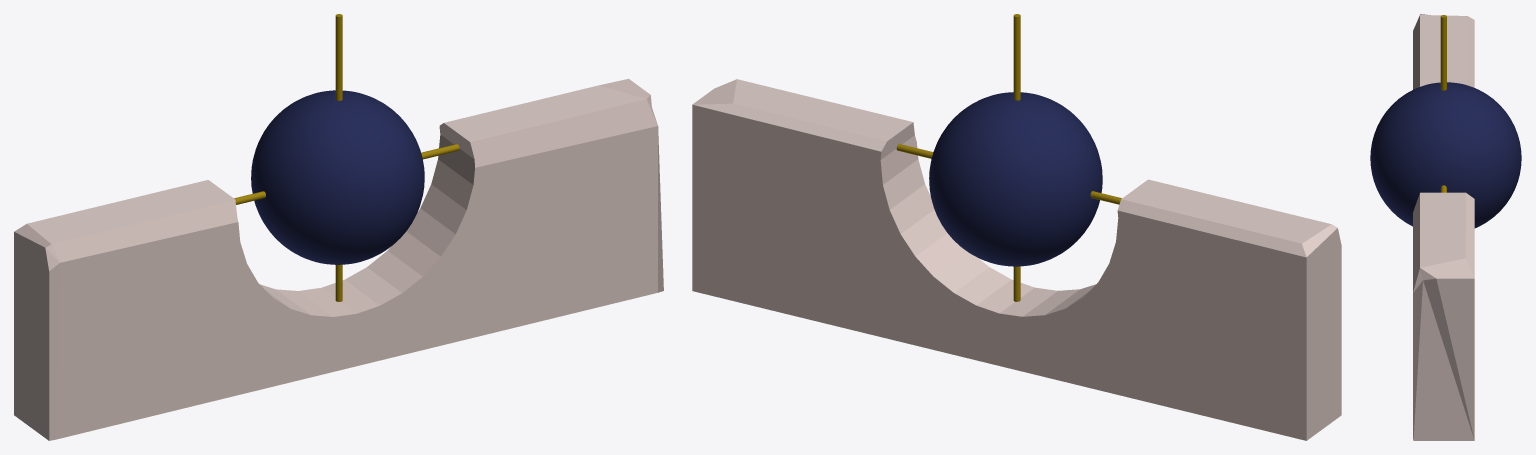
The model's file is Wall_Semicircle2_ExportTest2.fbx.
The picture shows the model from 3 angles, left to right: view 1: azimuth 30°, elevation 25°; view 2: azimuth 150°, elevation 25°; view 3: azimuth 270°, elevation 25°; orthographic projection. The views are drawn at different scales.
Parts seen in each view (by area): view 1: Wall, Sphere, Beam Vert; view 2: Wall, Sphere, Beam Vert; view 3: Wall, Sphere, Beam Vert.
Part boxes in pixels (box(x1,y1,x2,y2)): Wall: box(14, 78, 663, 440); Sphere: box(251, 90, 424, 264); Beam Vert: box(335, 14, 342, 301); Wall: box(692, 79, 1341, 440); Sphere: box(929, 92, 1102, 266); Beam Vert: box(1013, 14, 1020, 301); Wall: box(1413, 14, 1474, 440); Sphere: box(1370, 82, 1521, 228); Beam Vert: box(1440, 15, 1446, 90).
Size of the model in its own units: 2000 by 1050 by 490.
